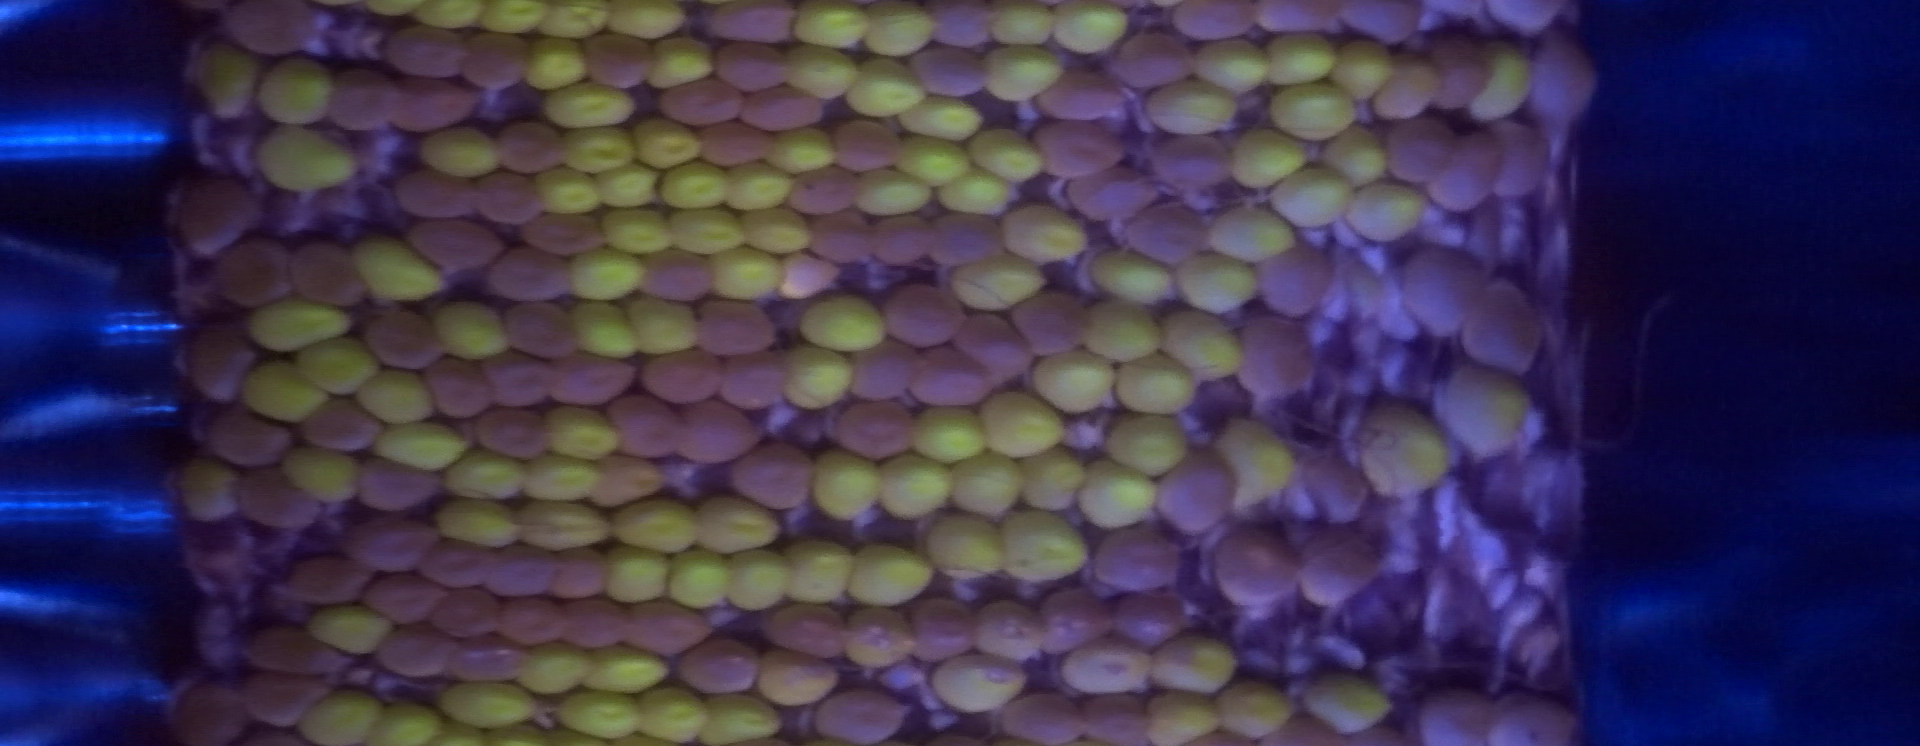fluorescent: (1349, 399, 1457, 499), (1431, 367, 1537, 458), (991, 503, 1093, 584), (1212, 416, 1300, 505), (349, 235, 459, 303), (253, 126, 367, 191), (1134, 78, 1245, 141), (238, 359, 339, 425), (841, 541, 940, 609), (1164, 309, 1249, 387), (1029, 347, 1124, 415), (874, 453, 965, 526), (560, 295, 655, 363), (921, 511, 1013, 581), (996, 200, 1093, 265), (778, 341, 858, 419), (811, 446, 891, 523), (1086, 249, 1185, 311), (257, 47, 333, 127), (192, 37, 267, 119), (978, 394, 1071, 459), (289, 334, 393, 392), (1267, 85, 1375, 140), (797, 295, 900, 353), (1153, 633, 1240, 701), (175, 448, 244, 533), (245, 294, 355, 345), (1304, 673, 1395, 735), (955, 256, 1056, 312), (687, 495, 785, 552), (1177, 254, 1269, 315), (1056, 641, 1160, 695), (776, 541, 860, 609), (1348, 176, 1429, 245), (1104, 412, 1191, 475), (560, 243, 651, 303), (940, 650, 1031, 710), (1116, 352, 1202, 414), (285, 439, 362, 508), (1266, 165, 1356, 225), (355, 365, 441, 428), (552, 688, 654, 741), (1079, 461, 1155, 530), (538, 78, 645, 127), (688, 688, 782, 744), (913, 399, 991, 467), (1223, 126, 1308, 187), (751, 649, 842, 706), (978, 43, 1068, 100), (662, 549, 743, 611), (602, 499, 700, 550), (294, 691, 384, 746), (431, 303, 519, 359), (953, 452, 1025, 519), (782, 1, 877, 53), (860, 1, 940, 61), (847, 53, 924, 115), (785, 43, 864, 103), (1189, 37, 1275, 92), (842, 608, 920, 669), (703, 244, 795, 295), (898, 87, 989, 138), (1329, 38, 1401, 103), (1141, 688, 1221, 746), (305, 599, 396, 649), (937, 163, 1022, 216), (599, 1, 696, 48), (579, 643, 671, 692), (444, 451, 528, 505), (545, 401, 620, 461), (1215, 209, 1299, 262), (419, 126, 501, 180), (969, 129, 1047, 185), (660, 205, 749, 254), (563, 122, 644, 176), (629, 294, 702, 354), (1482, 44, 1537, 122), (517, 451, 602, 501), (725, 550, 791, 615), (1085, 303, 1161, 359), (1211, 685, 1296, 735), (977, 608, 1052, 663), (432, 500, 523, 545), (443, 681, 539, 724), (715, 159, 795, 211), (658, 156, 733, 209), (1021, 447, 1085, 511), (519, 36, 593, 91), (1052, 2, 1127, 56), (602, 544, 672, 601), (640, 36, 720, 86), (520, 503, 609, 549), (1378, 55, 1439, 120), (534, 165, 611, 217), (1322, 127, 1391, 185), (598, 203, 673, 255), (593, 162, 669, 213), (634, 687, 707, 741), (373, 424, 467, 465), (856, 173, 936, 220), (1267, 33, 1340, 85), (899, 135, 973, 184), (634, 116, 703, 169), (744, 206, 819, 254), (522, 643, 594, 691), (768, 127, 844, 171), (539, 1, 613, 43), (984, 1, 1056, 43), (372, 706, 442, 746), (484, 1, 549, 43), (413, 1, 485, 36), (365, 1, 427, 21), (435, 725, 481, 746)
nonfluorescent: (1403, 246, 1491, 339), (1466, 278, 1547, 369), (336, 511, 440, 579), (1286, 450, 1376, 526), (1238, 315, 1314, 404), (1149, 453, 1240, 527), (1204, 537, 1303, 604), (236, 665, 337, 729), (669, 394, 767, 459), (493, 296, 591, 361), (287, 239, 378, 307), (729, 439, 818, 508), (182, 318, 256, 403), (407, 216, 511, 274), (1296, 527, 1378, 600), (1104, 583, 1194, 649), (214, 238, 299, 307), (178, 174, 247, 258), (1251, 252, 1342, 317), (244, 624, 355, 676), (1534, 29, 1597, 122), (906, 347, 999, 409), (204, 401, 291, 467), (811, 688, 915, 744), (602, 388, 686, 457), (356, 307, 440, 376), (239, 464, 323, 532), (955, 311, 1035, 382), (1031, 121, 1129, 179), (617, 599, 709, 660), (1150, 130, 1240, 191), (759, 598, 853, 657), (227, 1, 318, 61), (1430, 132, 1504, 207), (1101, 529, 1190, 590), (1011, 289, 1092, 356), (1483, 687, 1575, 746), (391, 75, 482, 134), (376, 23, 474, 78), (347, 451, 443, 506), (880, 281, 964, 344), (171, 679, 249, 746), (1490, 119, 1556, 196), (676, 633, 762, 692), (373, 619, 459, 677), (1031, 587, 1111, 649), (1431, 34, 1491, 116), (481, 545, 573, 598), (835, 396, 913, 457), (298, 398, 384, 453), (1069, 167, 1160, 219), (446, 631, 536, 684), (578, 452, 666, 506), (360, 570, 448, 624), (1073, 692, 1160, 746), (482, 352, 563, 409), (495, 119, 576, 176), (1128, 205, 1205, 265), (497, 587, 574, 647), (927, 212, 1013, 266), (389, 168, 481, 218), (493, 244, 572, 303), (721, 355, 798, 414), (429, 584, 507, 642), (1420, 687, 1496, 746), (329, 65, 393, 135), (1387, 118, 1452, 185), (421, 532, 497, 589), (462, 29, 531, 92), (718, 40, 792, 98), (696, 301, 776, 354), (637, 247, 721, 298), (912, 597, 977, 661), (549, 353, 637, 401), (1037, 71, 1123, 120), (429, 356, 497, 418), (702, 1, 793, 47), (1002, 695, 1085, 744), (1116, 36, 1198, 85), (289, 555, 375, 601), (587, 33, 654, 92), (909, 45, 987, 96), (481, 404, 557, 456), (1332, 1, 1425, 43), (831, 122, 909, 173), (639, 347, 716, 397), (659, 77, 740, 125), (476, 170, 546, 225), (849, 344, 920, 398), (1166, 1, 1266, 37), (694, 121, 775, 165), (869, 216, 939, 266), (562, 597, 624, 652), (551, 548, 613, 601), (743, 85, 822, 127), (807, 214, 871, 267), (1491, 1, 1570, 43), (525, 216, 609, 255), (924, 1, 998, 45), (785, 171, 864, 212), (1247, 1, 1351, 29), (1264, 717, 1333, 746), (1356, 722, 1407, 746)
